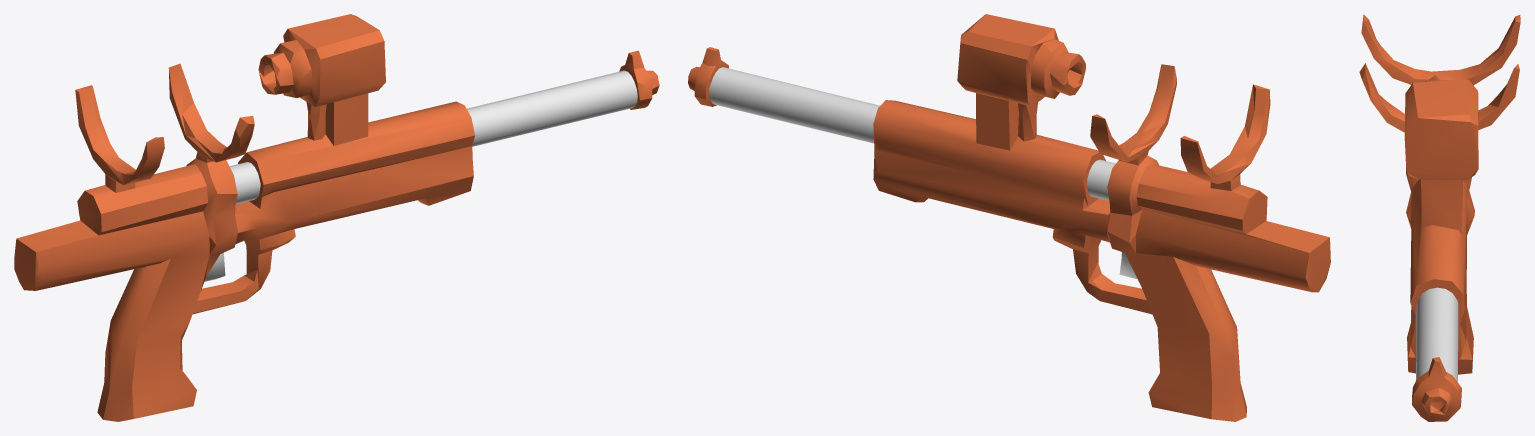
File: gun.fbx
3 views of the same model, side by side, from view 1: azimuth 30°, elevation 25°; view 2: azimuth 150°, elevation 25°; view 3: azimuth 270°, elevation 25° (orthographic). The views are drawn at different scales.
Parts seen in each view (by area): view 1: Body lp, Cannon lp, Head lp; view 2: Body lp, Cannon lp, Head lp; view 3: Body lp, Cannon lp, Head lp.
Boxes of the visible parts, x1,y1,x2,y2 form: Body lp: [14, 14, 474, 421]; Cannon lp: [229, 70, 637, 203]; Head lp: [619, 50, 659, 109]; Body lp: [873, 14, 1330, 421]; Cannon lp: [709, 67, 1115, 200]; Head lp: [688, 47, 728, 106]; Body lp: [1359, 14, 1520, 374]; Cannon lp: [1416, 179, 1458, 382]; Head lp: [1412, 357, 1461, 421].
Size of the model in its own units: 0.8718 by 0.4402 by 0.1777.
